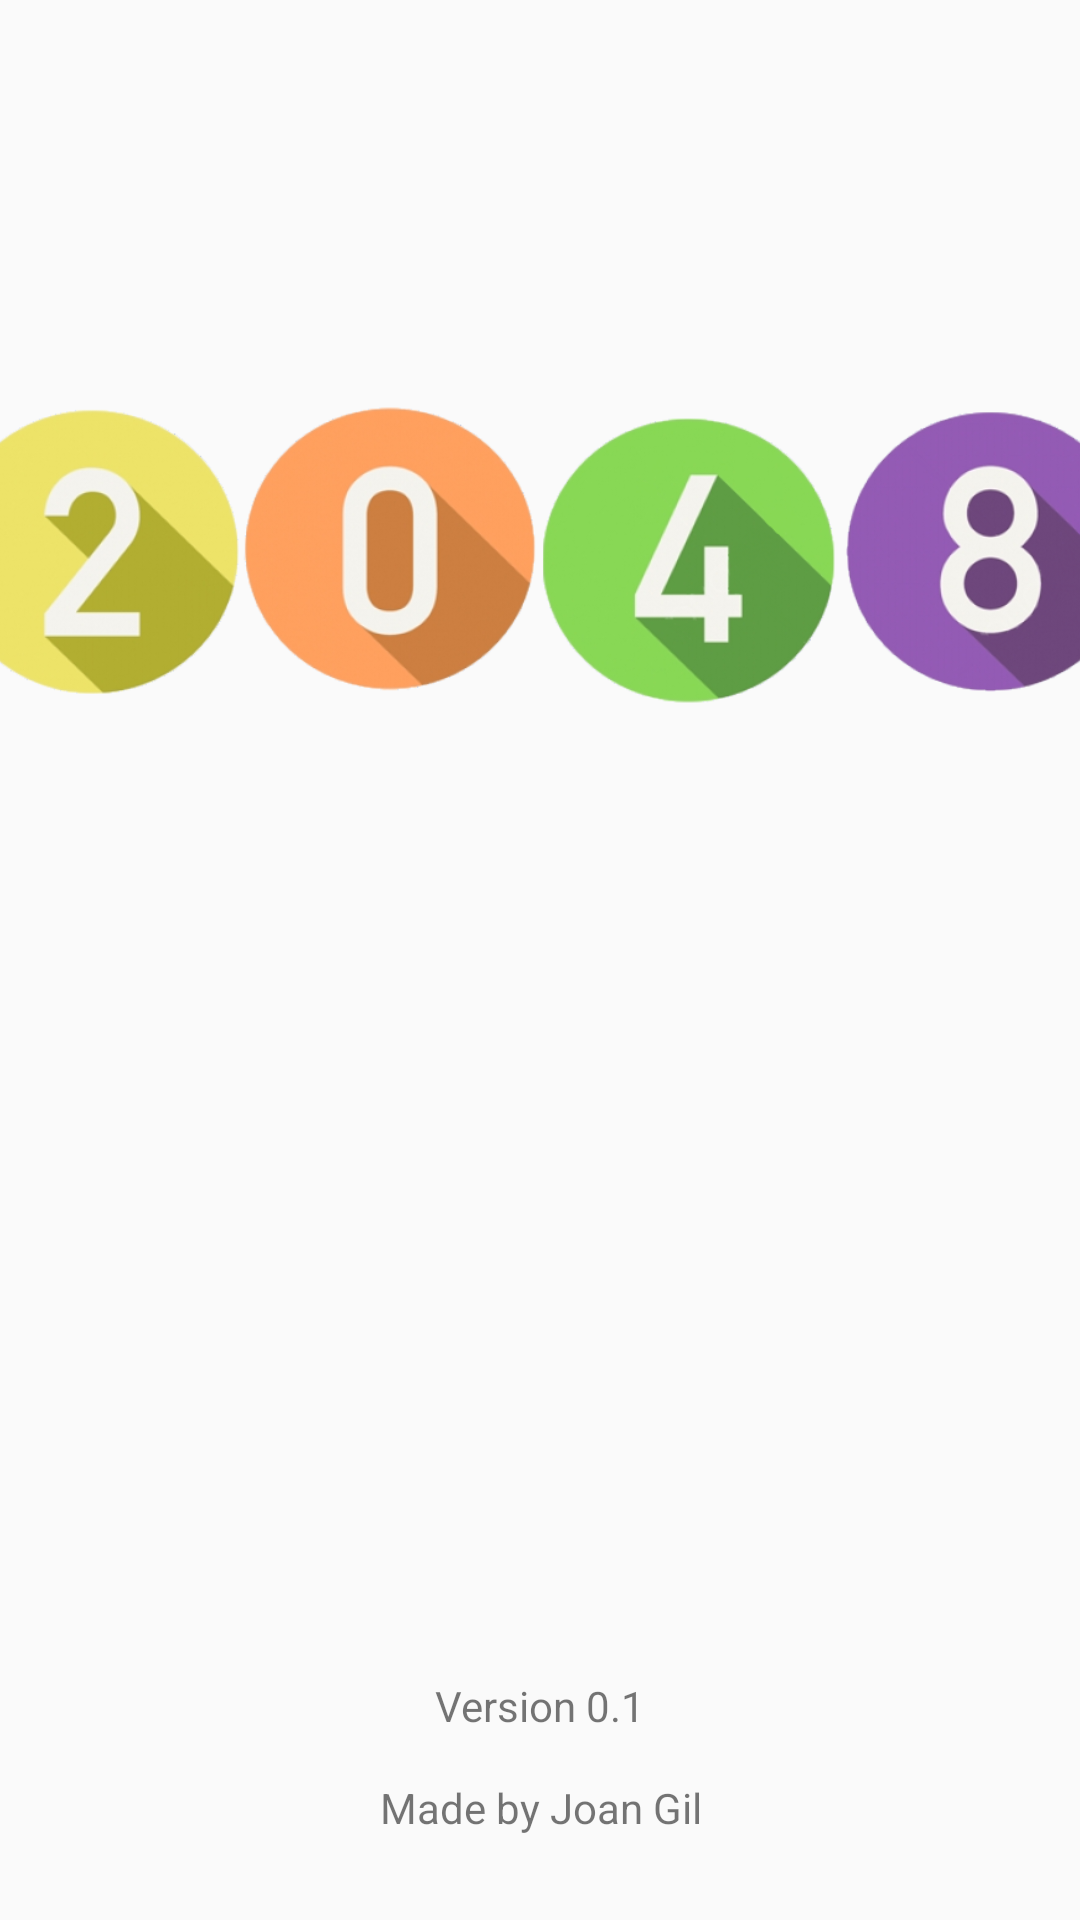

Icons on this 1080 x 1920 Android screen, each with its box as box=[x1, y1, x2, y2]:
quatre: box=[543, 418, 835, 703]
zero: box=[245, 407, 535, 690]
